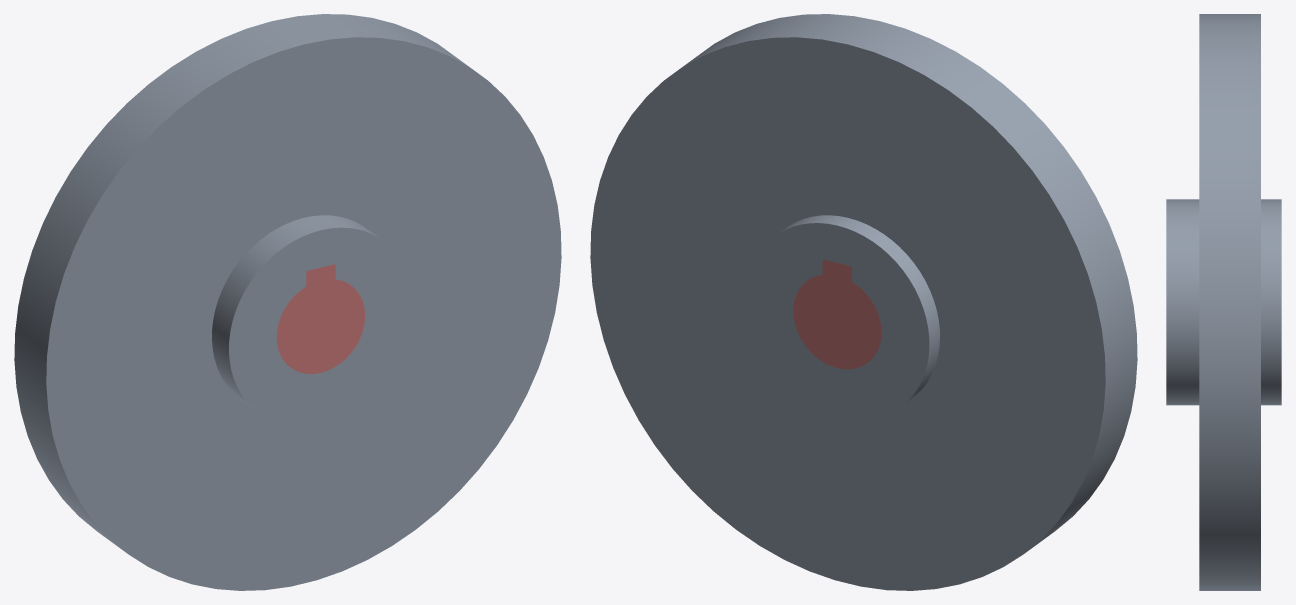
File: step_28.glb
3 renders of one model, left to right at view 1: azimuth 30°, elevation 25°; view 2: azimuth 150°, elevation 25°; view 3: azimuth 270°, elevation 25°, orthographic. The views are drawn at different scales.
Visible parts, largest first — view 1: part__flywheel, removed__flywheel; view 2: part__flywheel, removed__flywheel; view 3: part__flywheel.
Part boxes in pixels (x1=…): part__flywheel: x1=14, y1=14, x2=561, y2=590; removed__flywheel: x1=276, y1=264, x2=364, y2=373; part__flywheel: x1=590, y1=14, x2=1137, y2=590; removed__flywheel: x1=793, y1=259, x2=881, y2=369; part__flywheel: x1=1166, y1=14, x2=1281, y2=590.
Size of the model in its own units: 140 by 140 by 28.
